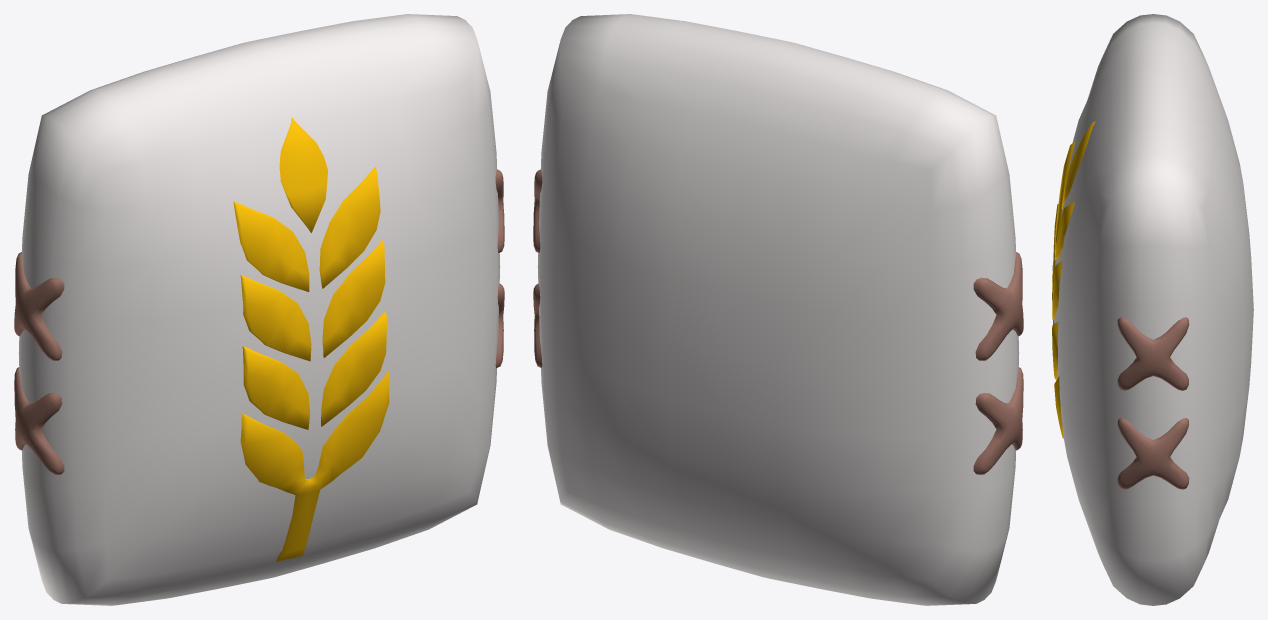
File: Farm_4_Bag_Wheat_Ear_1.glb
3 views of the same model, side by side, from view 1: azimuth 30°, elevation 25°; view 2: azimuth 150°, elevation 25°; view 3: azimuth 270°, elevation 25° (orthographic). The views are drawn at different scales.
Visible parts, largest first — view 1: Farm_4_Bag_Wheat_Ear_1; view 2: Farm_4_Bag_Wheat_Ear_1; view 3: Farm_4_Bag_Wheat_Ear_1.
Boxes of the visible parts, <box> form: Farm_4_Bag_Wheat_Ear_1: <box>14,14,504,605</box>; Farm_4_Bag_Wheat_Ear_1: <box>533,14,1023,605</box>; Farm_4_Bag_Wheat_Ear_1: <box>1052,14,1253,605</box>.
Bounding box in the file's own units: 1.82 × 1.94 × 0.7683.
1 material, 1 textured.
